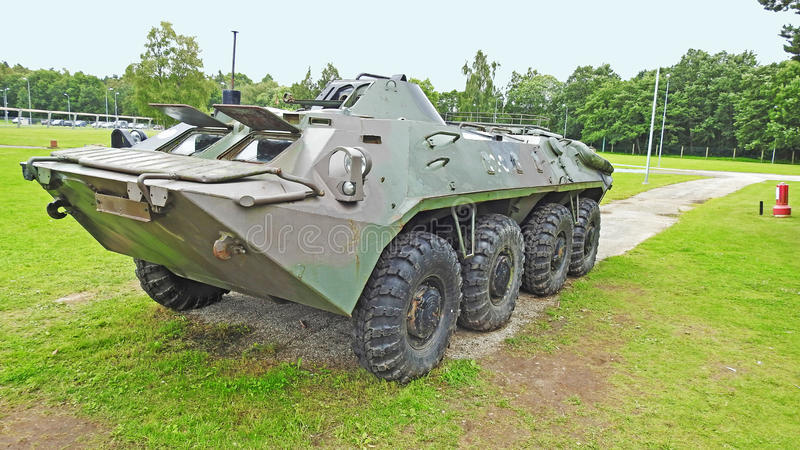btr80: (32, 89, 608, 372)
